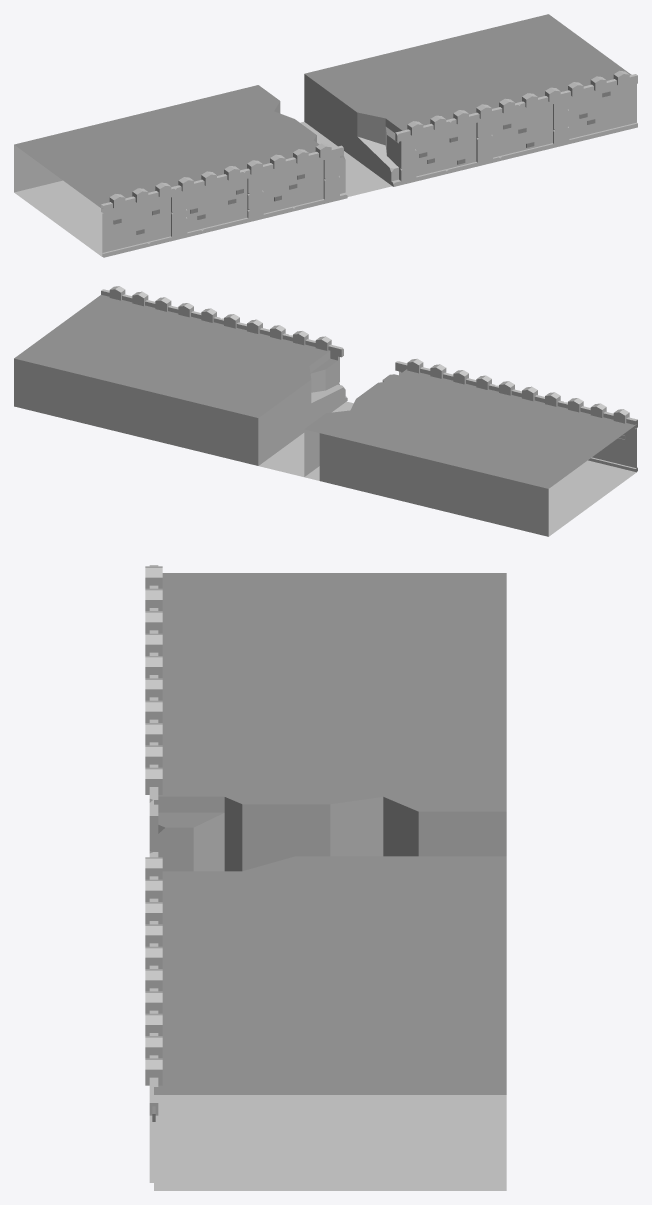
The model's file is GreatWallBroken.fbx.
3 views of the same model, one above another, from view 1: azimuth 30°, elevation 25°; view 2: azimuth 150°, elevation 25°; view 3: azimuth 270°, elevation 25° (orthographic). The views are drawn at different scales.
Parts seen in each view (by area): view 1: GreatWallBroken; view 2: GreatWallBroken; view 3: GreatWallBroken.
Part boxes in pixels (left/top/right/bottom): GreatWallBroken: left=14, top=14, right=637, bottom=257; GreatWallBroken: left=14, top=286, right=637, bottom=536; GreatWallBroken: left=145, top=565, right=506, bottom=1190.
Bounding box in the file's own units: 7000 × 725 × 2050.
